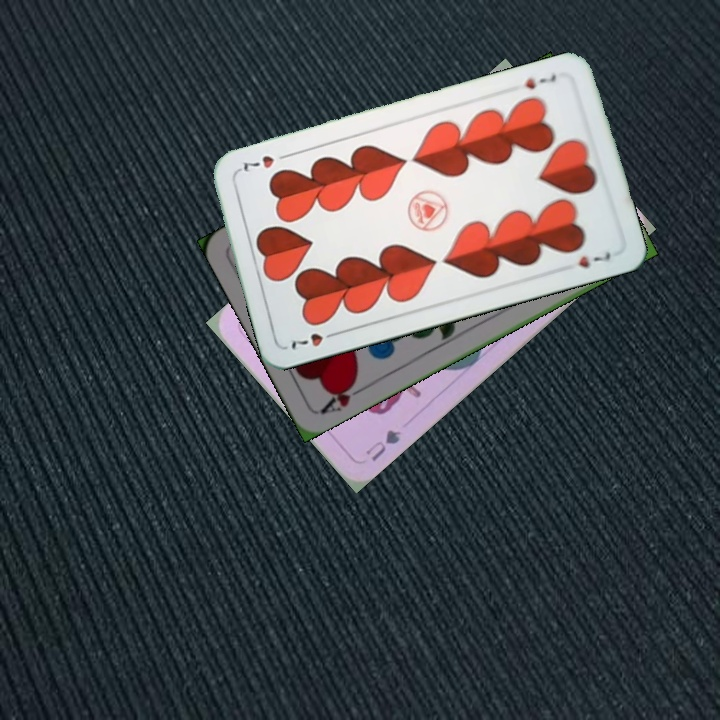GU: (361, 425, 403, 464)
H7: (287, 327, 342, 352), (521, 70, 559, 92)
HA: (316, 375, 371, 417)
